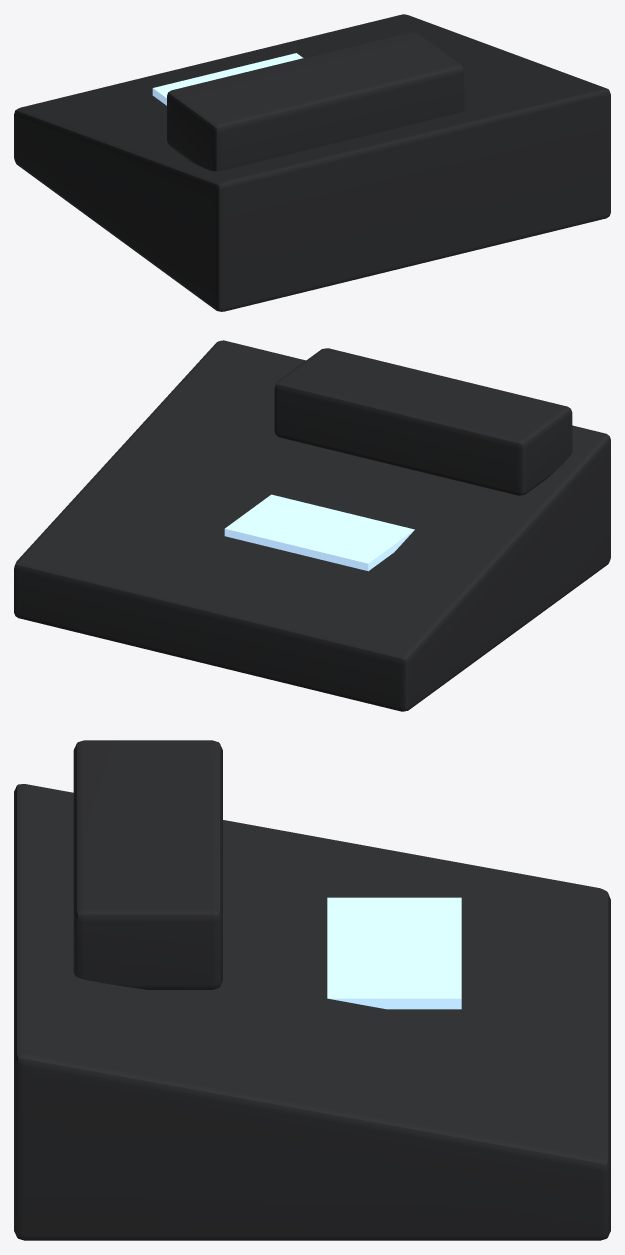
Rendered from prop_phone_desk.glb.
3 views of the same model, one above another, from view 1: azimuth 30°, elevation 25°; view 2: azimuth 150°, elevation 25°; view 3: azimuth 270°, elevation 25° (orthographic). The views are drawn at different scales.
Visible parts, largest first — view 1: Phone; view 2: Phone; view 3: Phone.
Boxes of the visible parts, x1,y1,x2,y2 form: Phone: [14, 14, 610, 311]; Phone: [14, 340, 610, 711]; Phone: [14, 740, 610, 1240].
Bounding box in the file's own units: 0.22 × 0.09 × 0.2.
